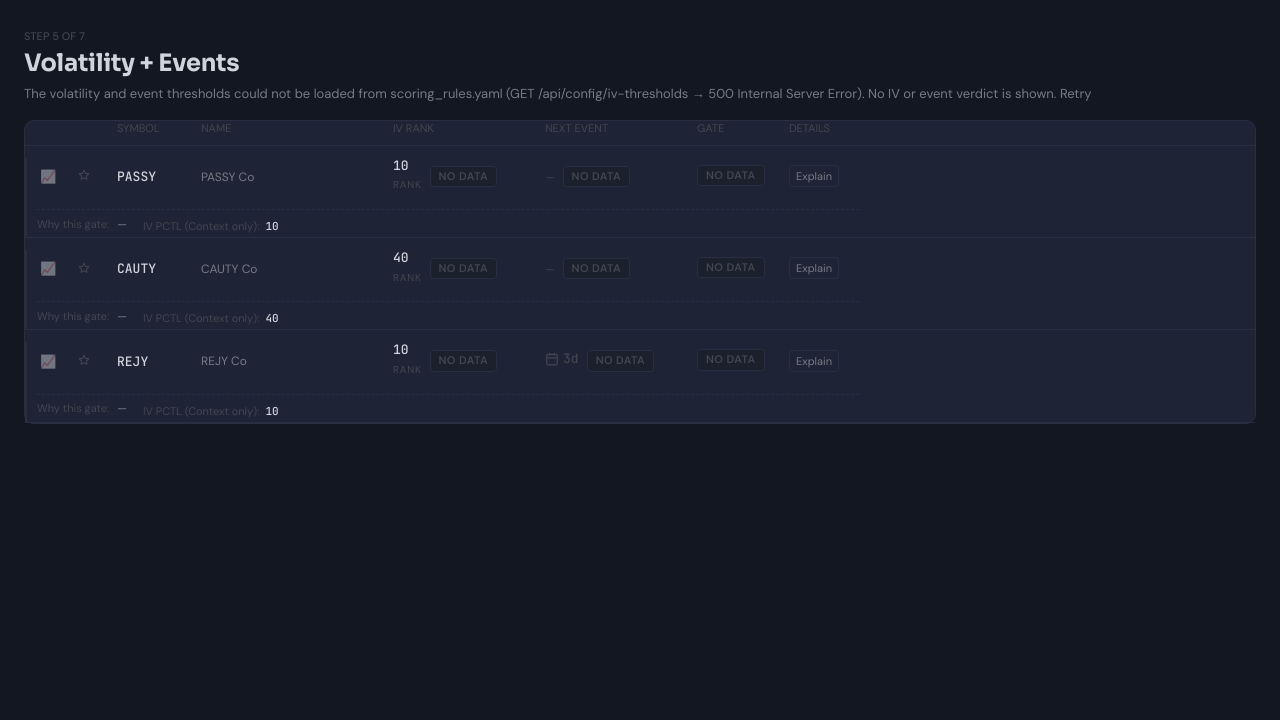
it: Step 5 with no thresholds in hand › S3: Retry after a failure shows the same verdicts as the ready path
Click the button "Retry": coordinates (1076, 94) [1060, 85, 1092, 104]
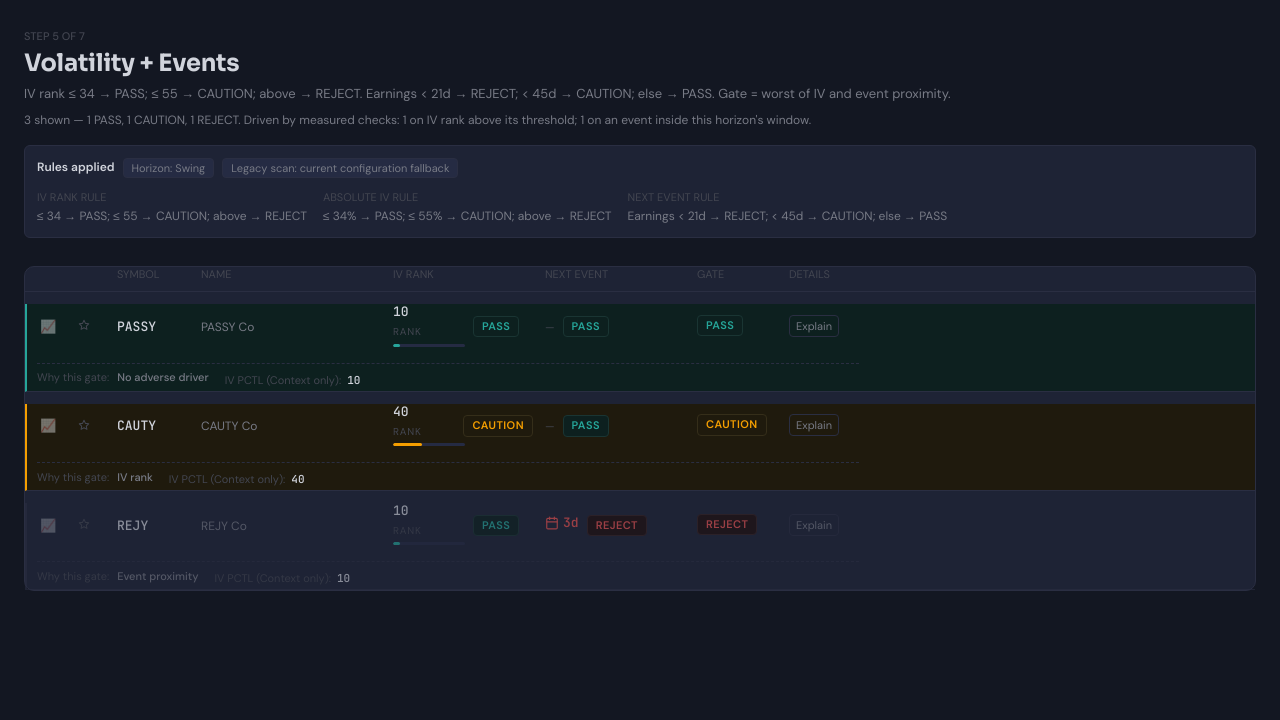
Check: the element showing "STEP 5 OF 7" is shown, box [24, 24, 85, 45]
Check: the text "Gate = worst of IV and event proximity." is shown, box [718, 85, 951, 102]
Check: the text "Legacy scan: current configuration fallback" is shown, box [222, 158, 458, 178]
